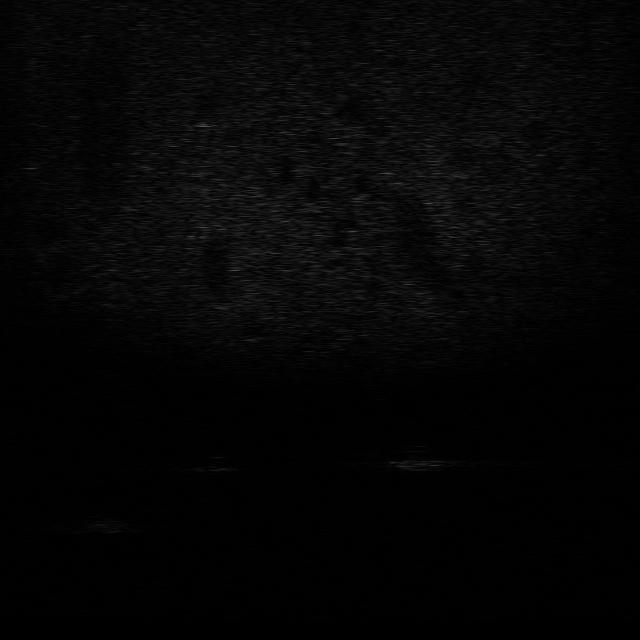ball: (184, 447, 244, 474)
circle cage: (55, 511, 129, 536)
human body: (352, 442, 468, 473)
